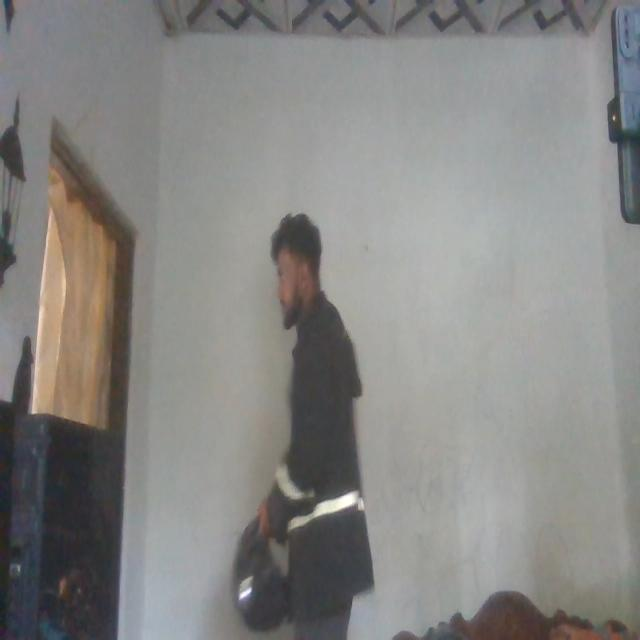Jacket_Wearer: (271, 308, 377, 610)
Person: (262, 212, 373, 639)
